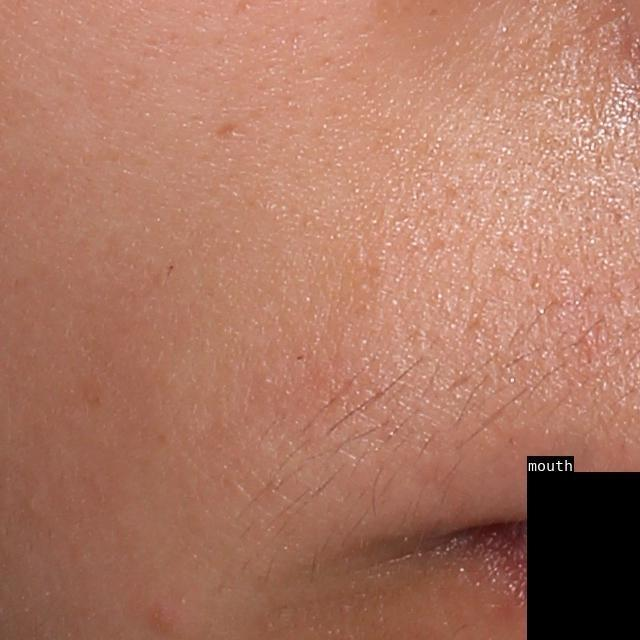atrophic_scar: (211, 120, 252, 146)
papule: (136, 599, 182, 639)
